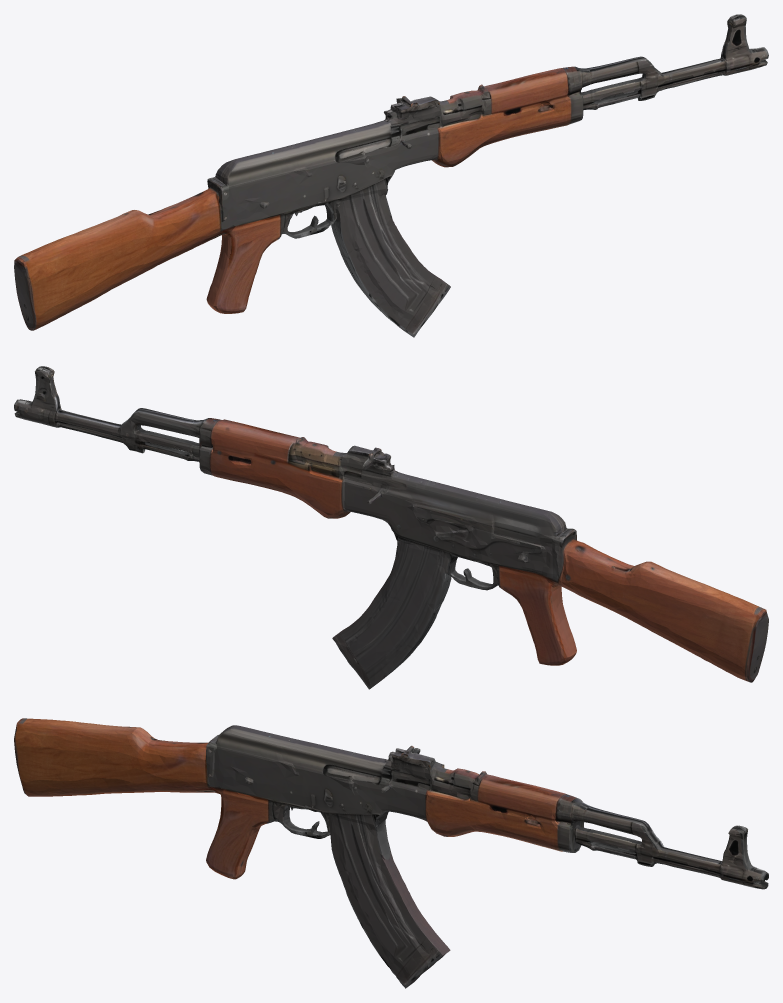
The model's file is AK_47_Rifle_0620090433_texture.fbx.
3 views of the same model, one above another, from view 1: azimuth 30°, elevation 25°; view 2: azimuth 150°, elevation 25°; view 3: azimuth 330°, elevation 25° (orthographic).
Visible parts, largest first — view 1: temp; view 2: temp; view 3: temp.
Boxes of the visible parts, x1,y1,x2,y2 form: temp: [14, 14, 768, 337]; temp: [14, 366, 768, 689]; temp: [14, 718, 768, 988].
Size of the model in its own units: 200 by 60.87 by 14.97.
1 material, 1 textured.
